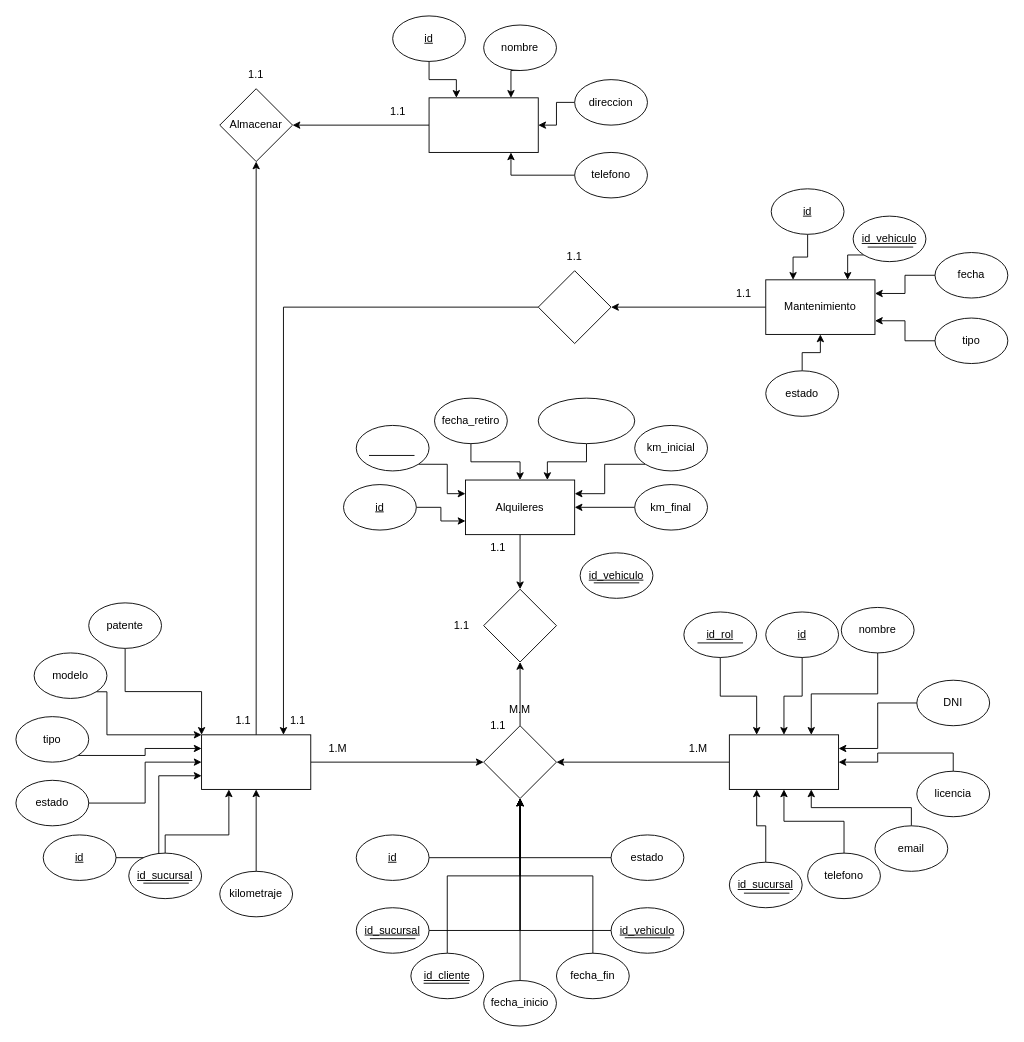
This 1024x1042 diagram has some shape labels left out. Each missing label, with the box of its shape:
Cliente: (728, 734, 839, 789)
Ejecutar: (483, 588, 556, 662)
fecha_devolucion: (537, 397, 635, 444)
id_reserva: (355, 425, 429, 471)
Mantener: (537, 270, 611, 344)
Reservar: (483, 725, 556, 799)
Sucursales: (428, 97, 538, 152)
Vehiculos: (201, 734, 311, 789)
